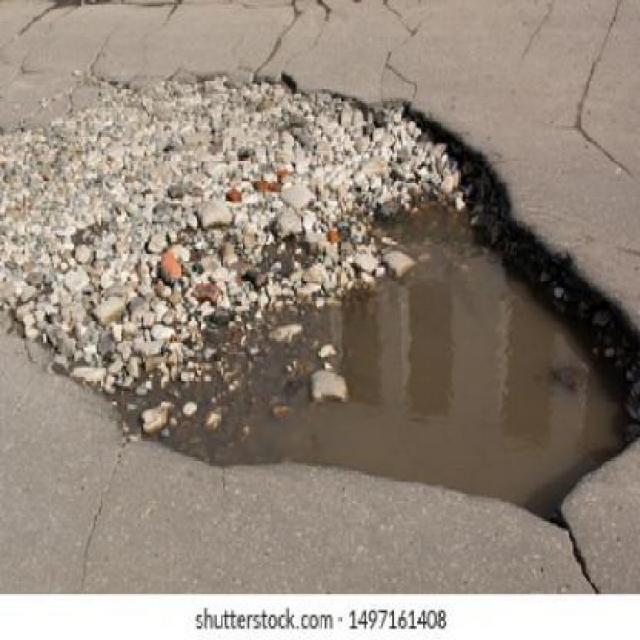Pothole: (0, 91, 638, 510)
